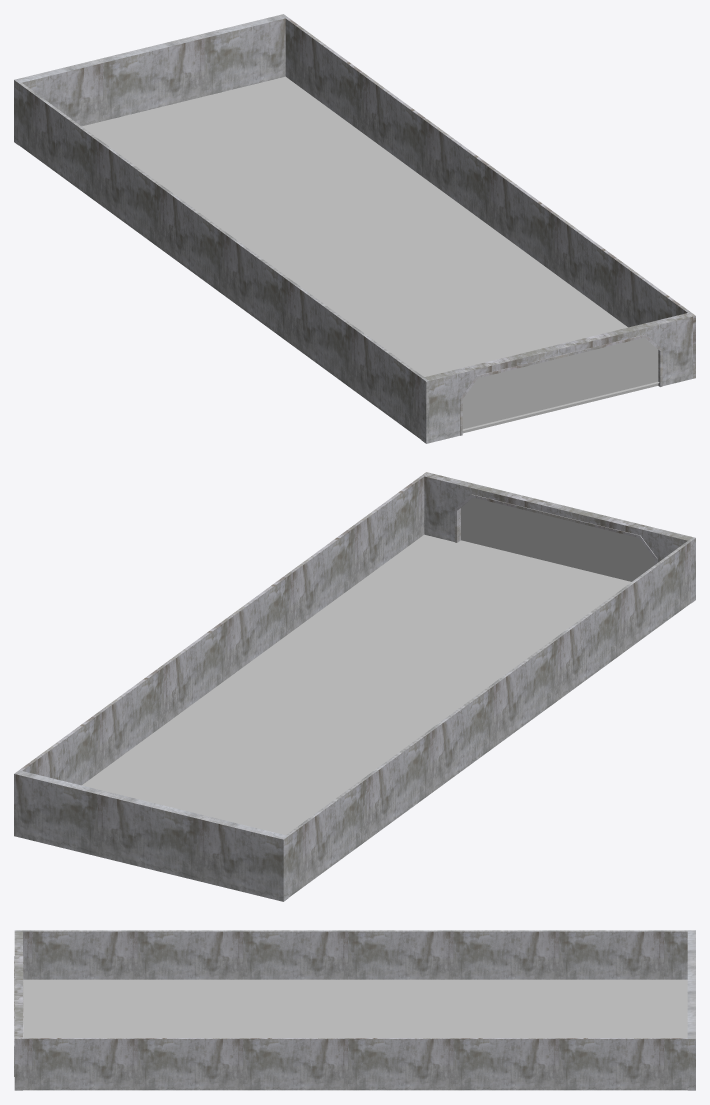
3 views of the same model, one above another, from view 1: azimuth 30°, elevation 25°; view 2: azimuth 150°, elevation 25°; view 3: azimuth 270°, elevation 25° (orthographic). The views are drawn at different scales.
Parts seen in each view (by area): view 1: BB_020_L1; view 2: BB_020_L1; view 3: BB_020_L1.
Part boxes in pixels (x1,y1,x2,y2): BB_020_L1: (14, 14, 695, 443); BB_020_L1: (14, 472, 695, 901); BB_020_L1: (14, 930, 695, 1090).
Size of the model in its own units: 13.59 by 3 by 36.03.
